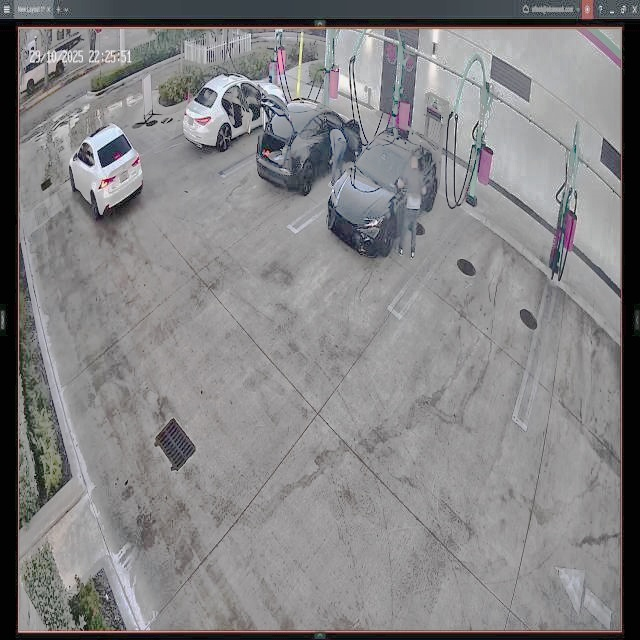Car: (324, 137, 443, 253), (258, 86, 365, 190), (184, 76, 286, 157), (69, 126, 144, 216)
